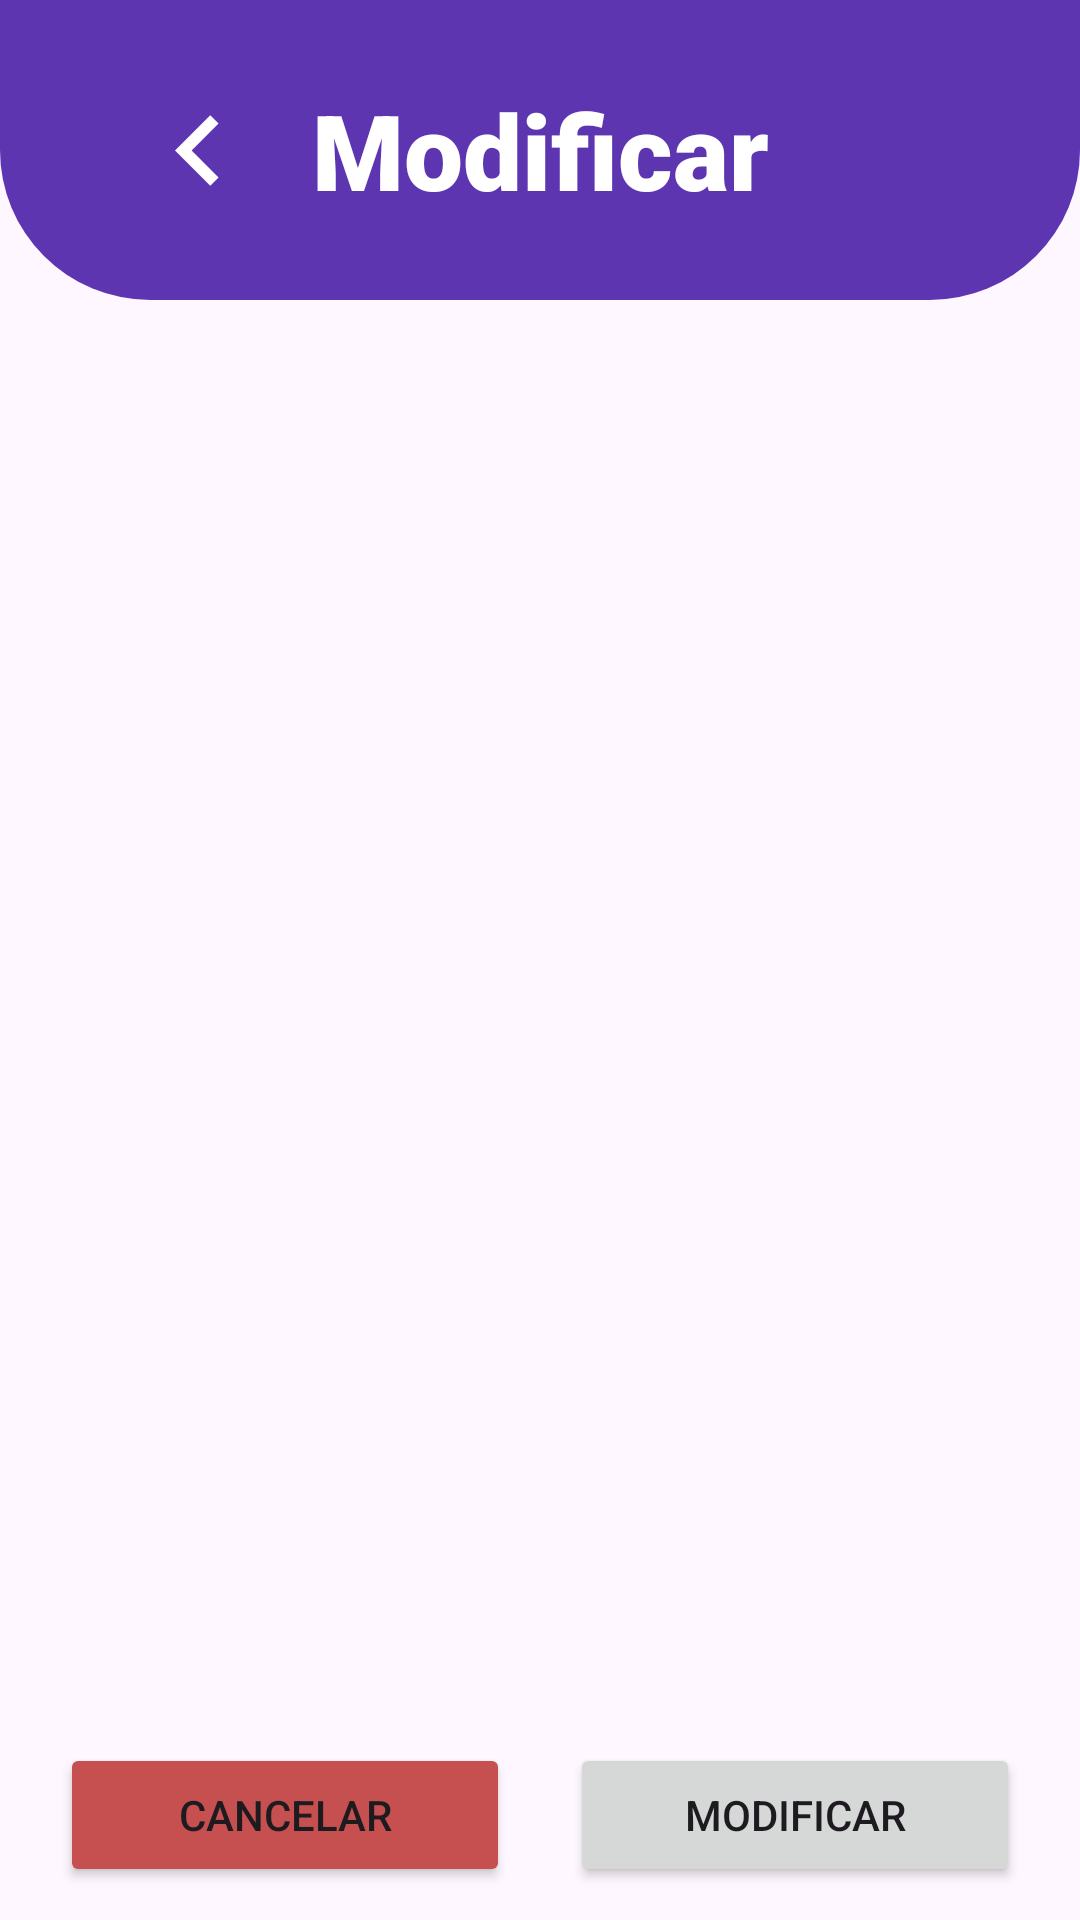

Where icons sit on this 1080x1920 app screen, as [x1,y1,x2,y2]:
back: [175,115,219,186]
